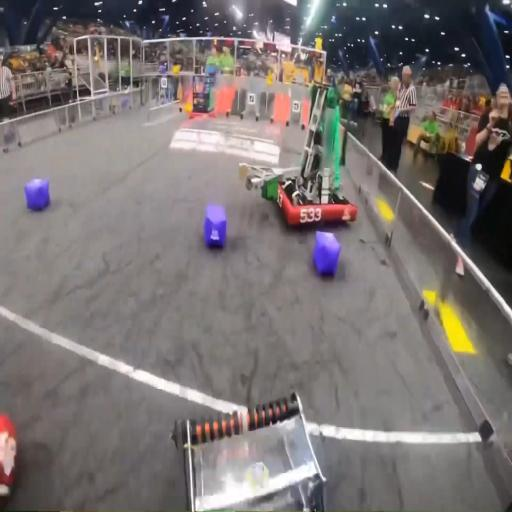robot: (237, 79, 358, 227), (188, 72, 217, 122)
